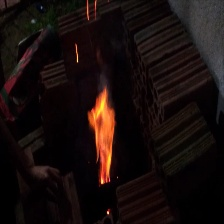fire: (85, 85, 129, 193)
